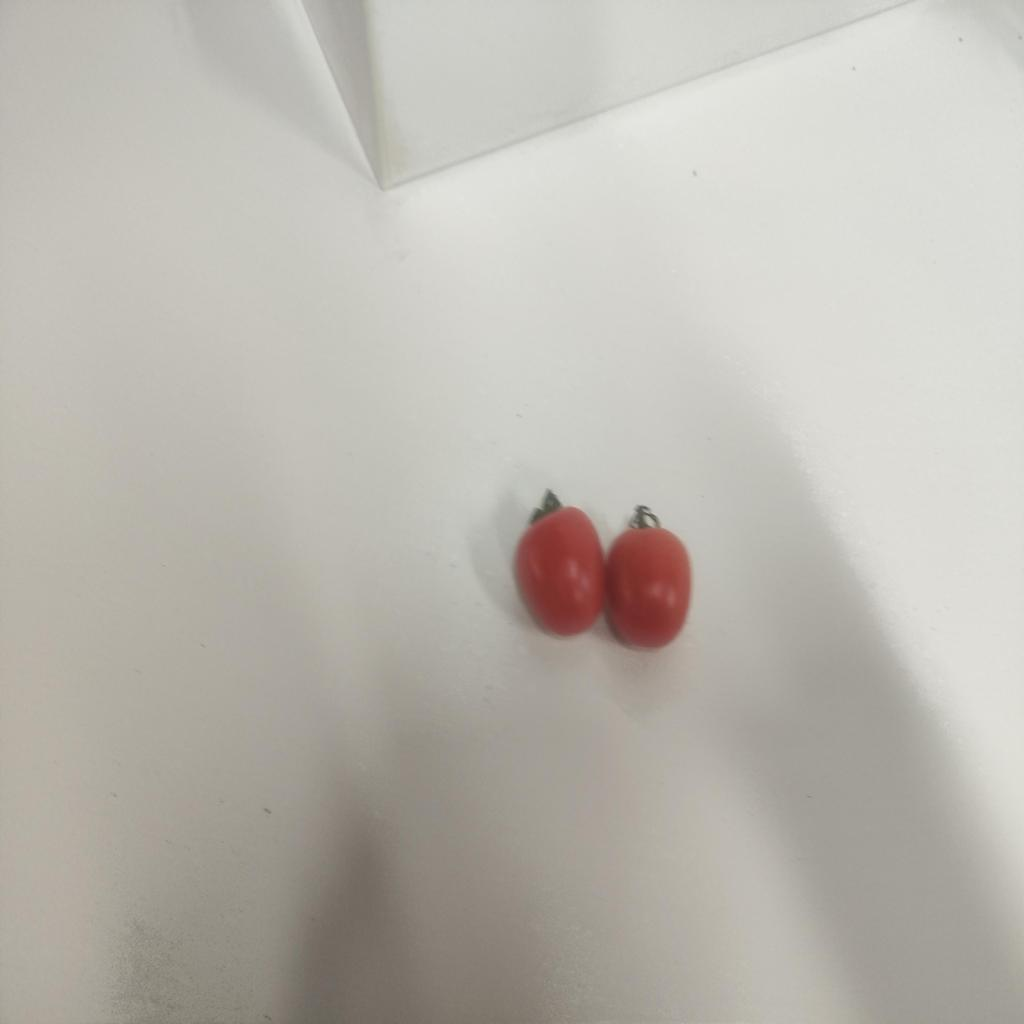tomato: (598, 509, 704, 647), (514, 504, 609, 639)
